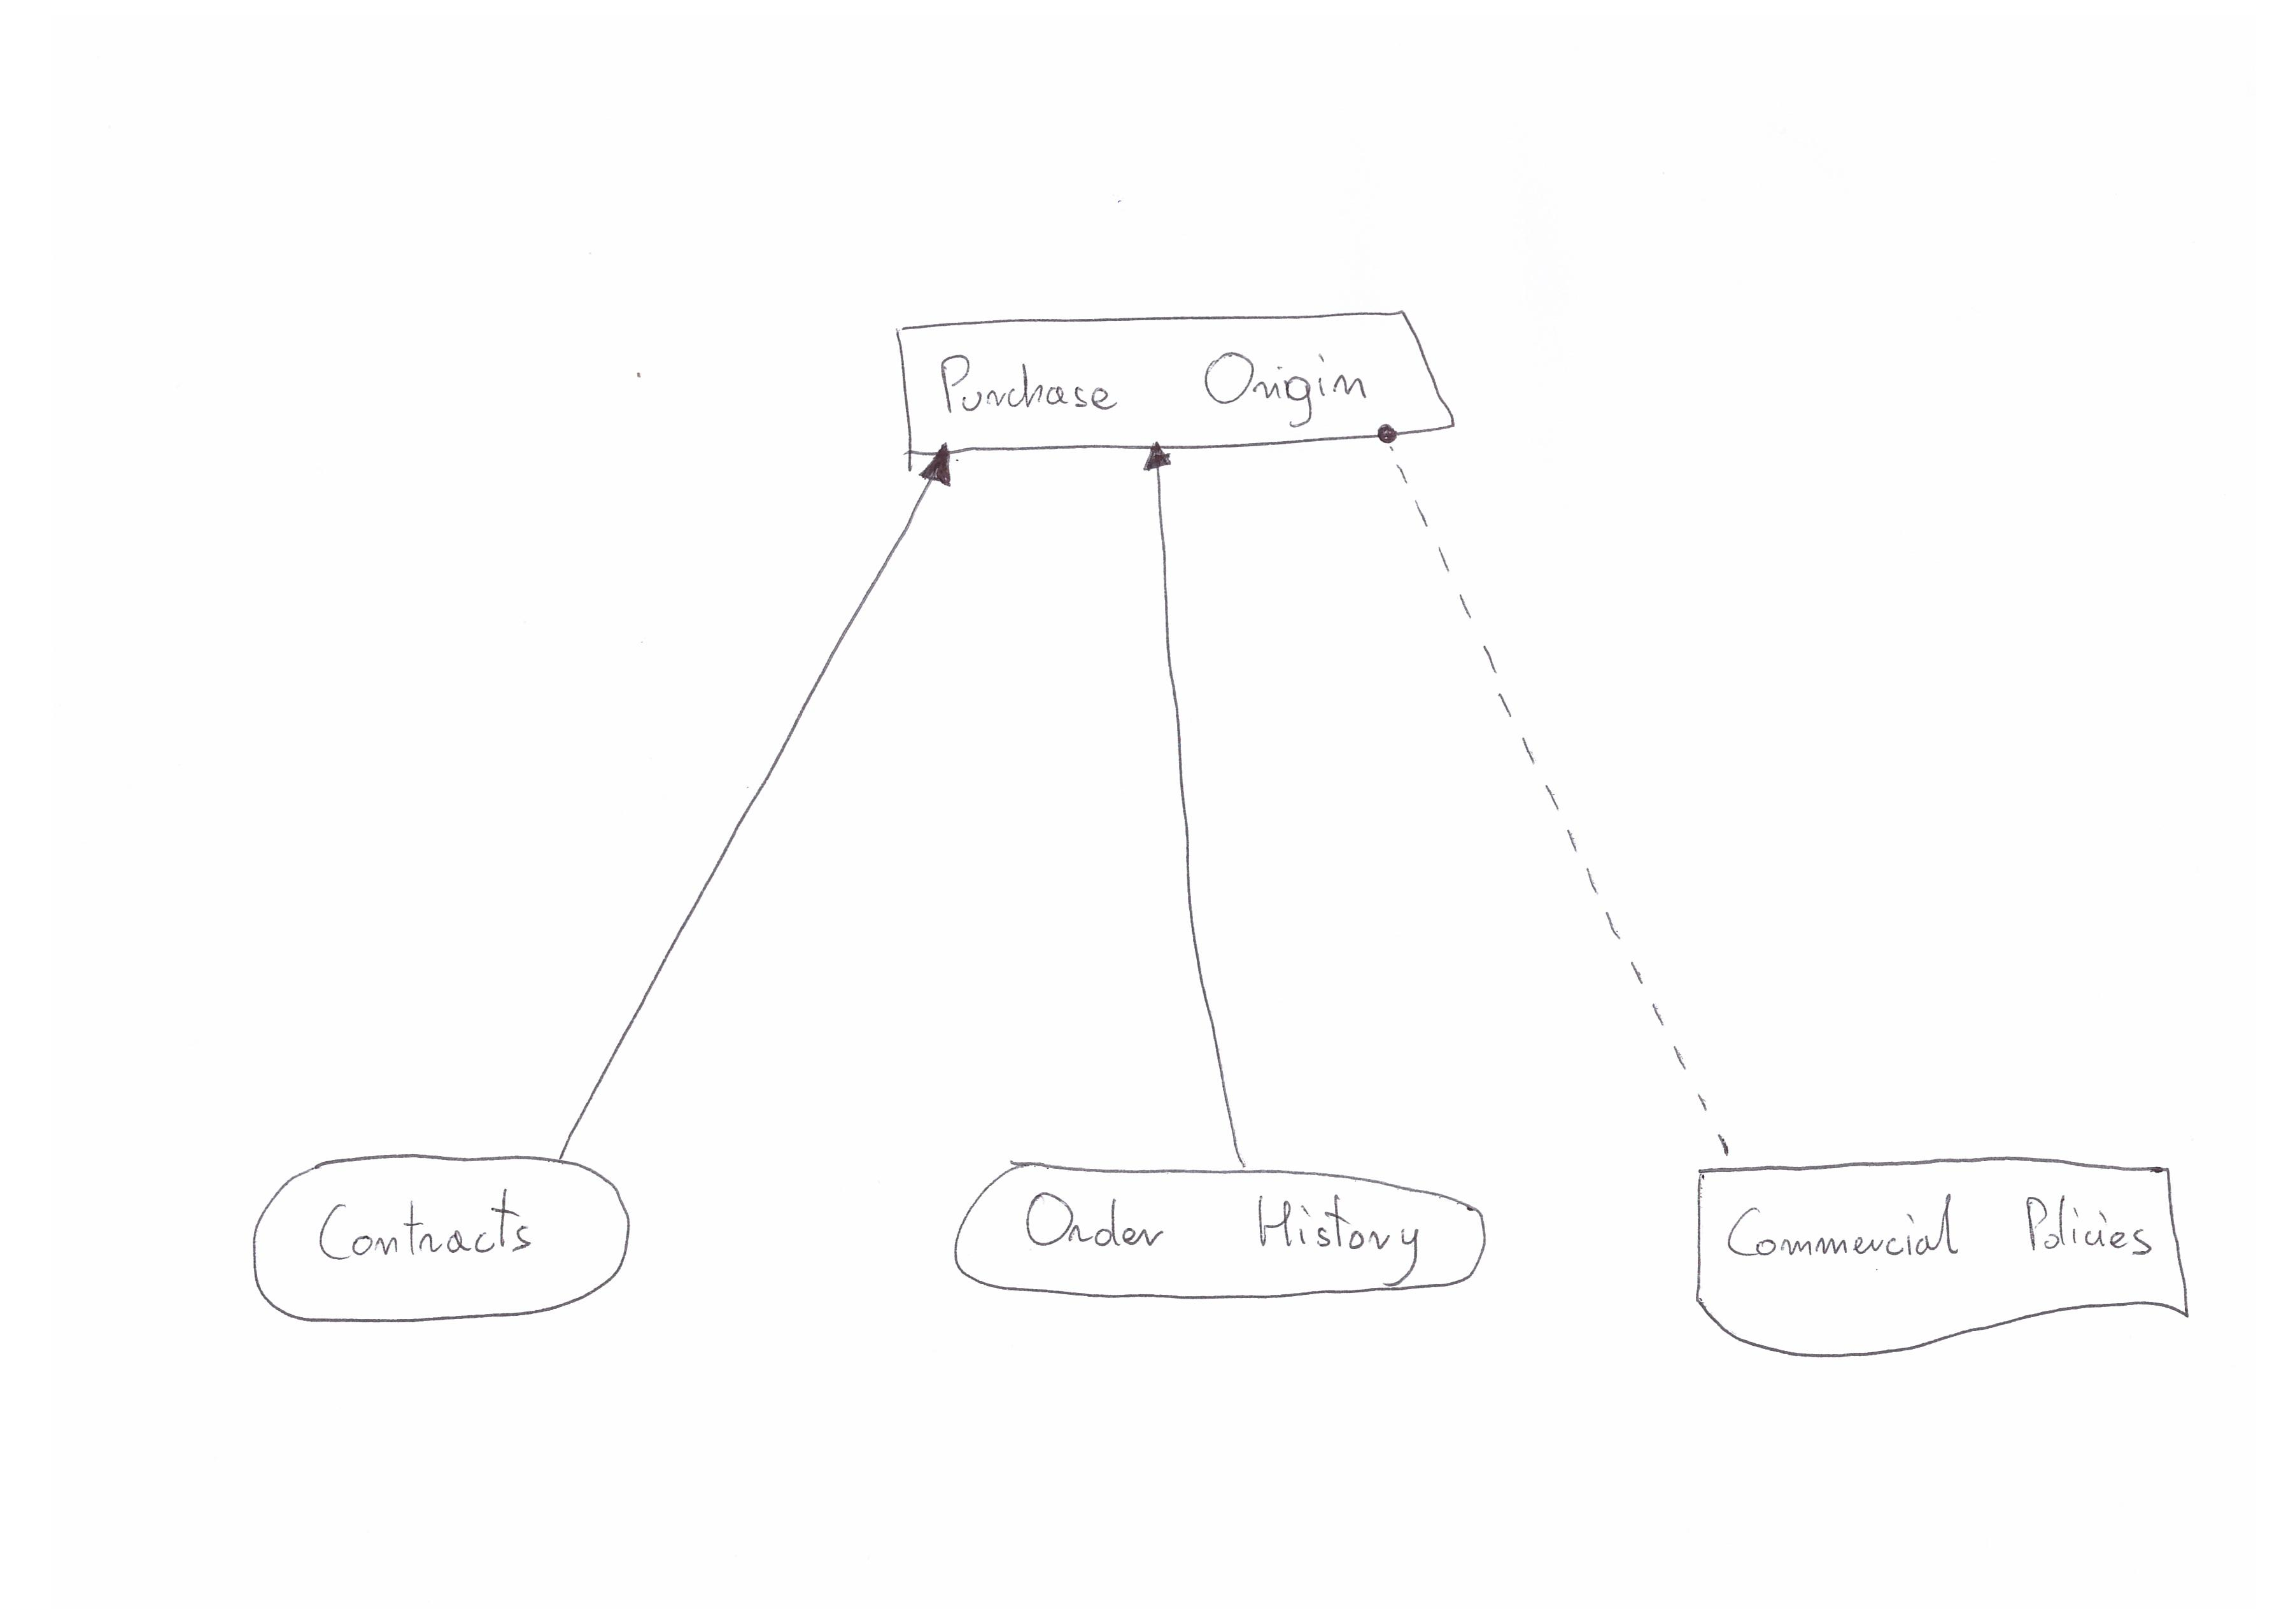arrow_authority_requirement: (1349, 418, 1745, 1162)
arrow_information_requirement: (527, 438, 965, 1167), (1126, 432, 1262, 1169)
node_decision: (884, 308, 1467, 452)
node_input_data: (958, 1155, 1508, 1309), (246, 1153, 645, 1332)
node_knowledge_source: (1676, 1153, 2202, 1369)
text: (1017, 1178, 1432, 1287), (1726, 1186, 2165, 1283), (930, 337, 1372, 431), (308, 1185, 552, 1276)
